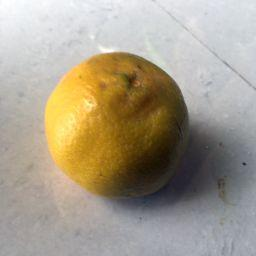Ripe: (47, 50, 188, 195)
